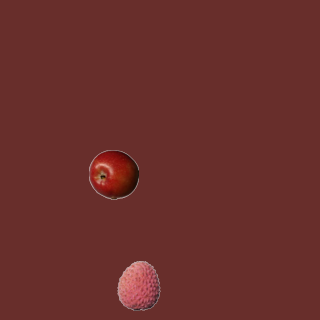Apple Braeburn: (88, 149, 138, 199)
Lychee: (113, 260, 163, 310)
